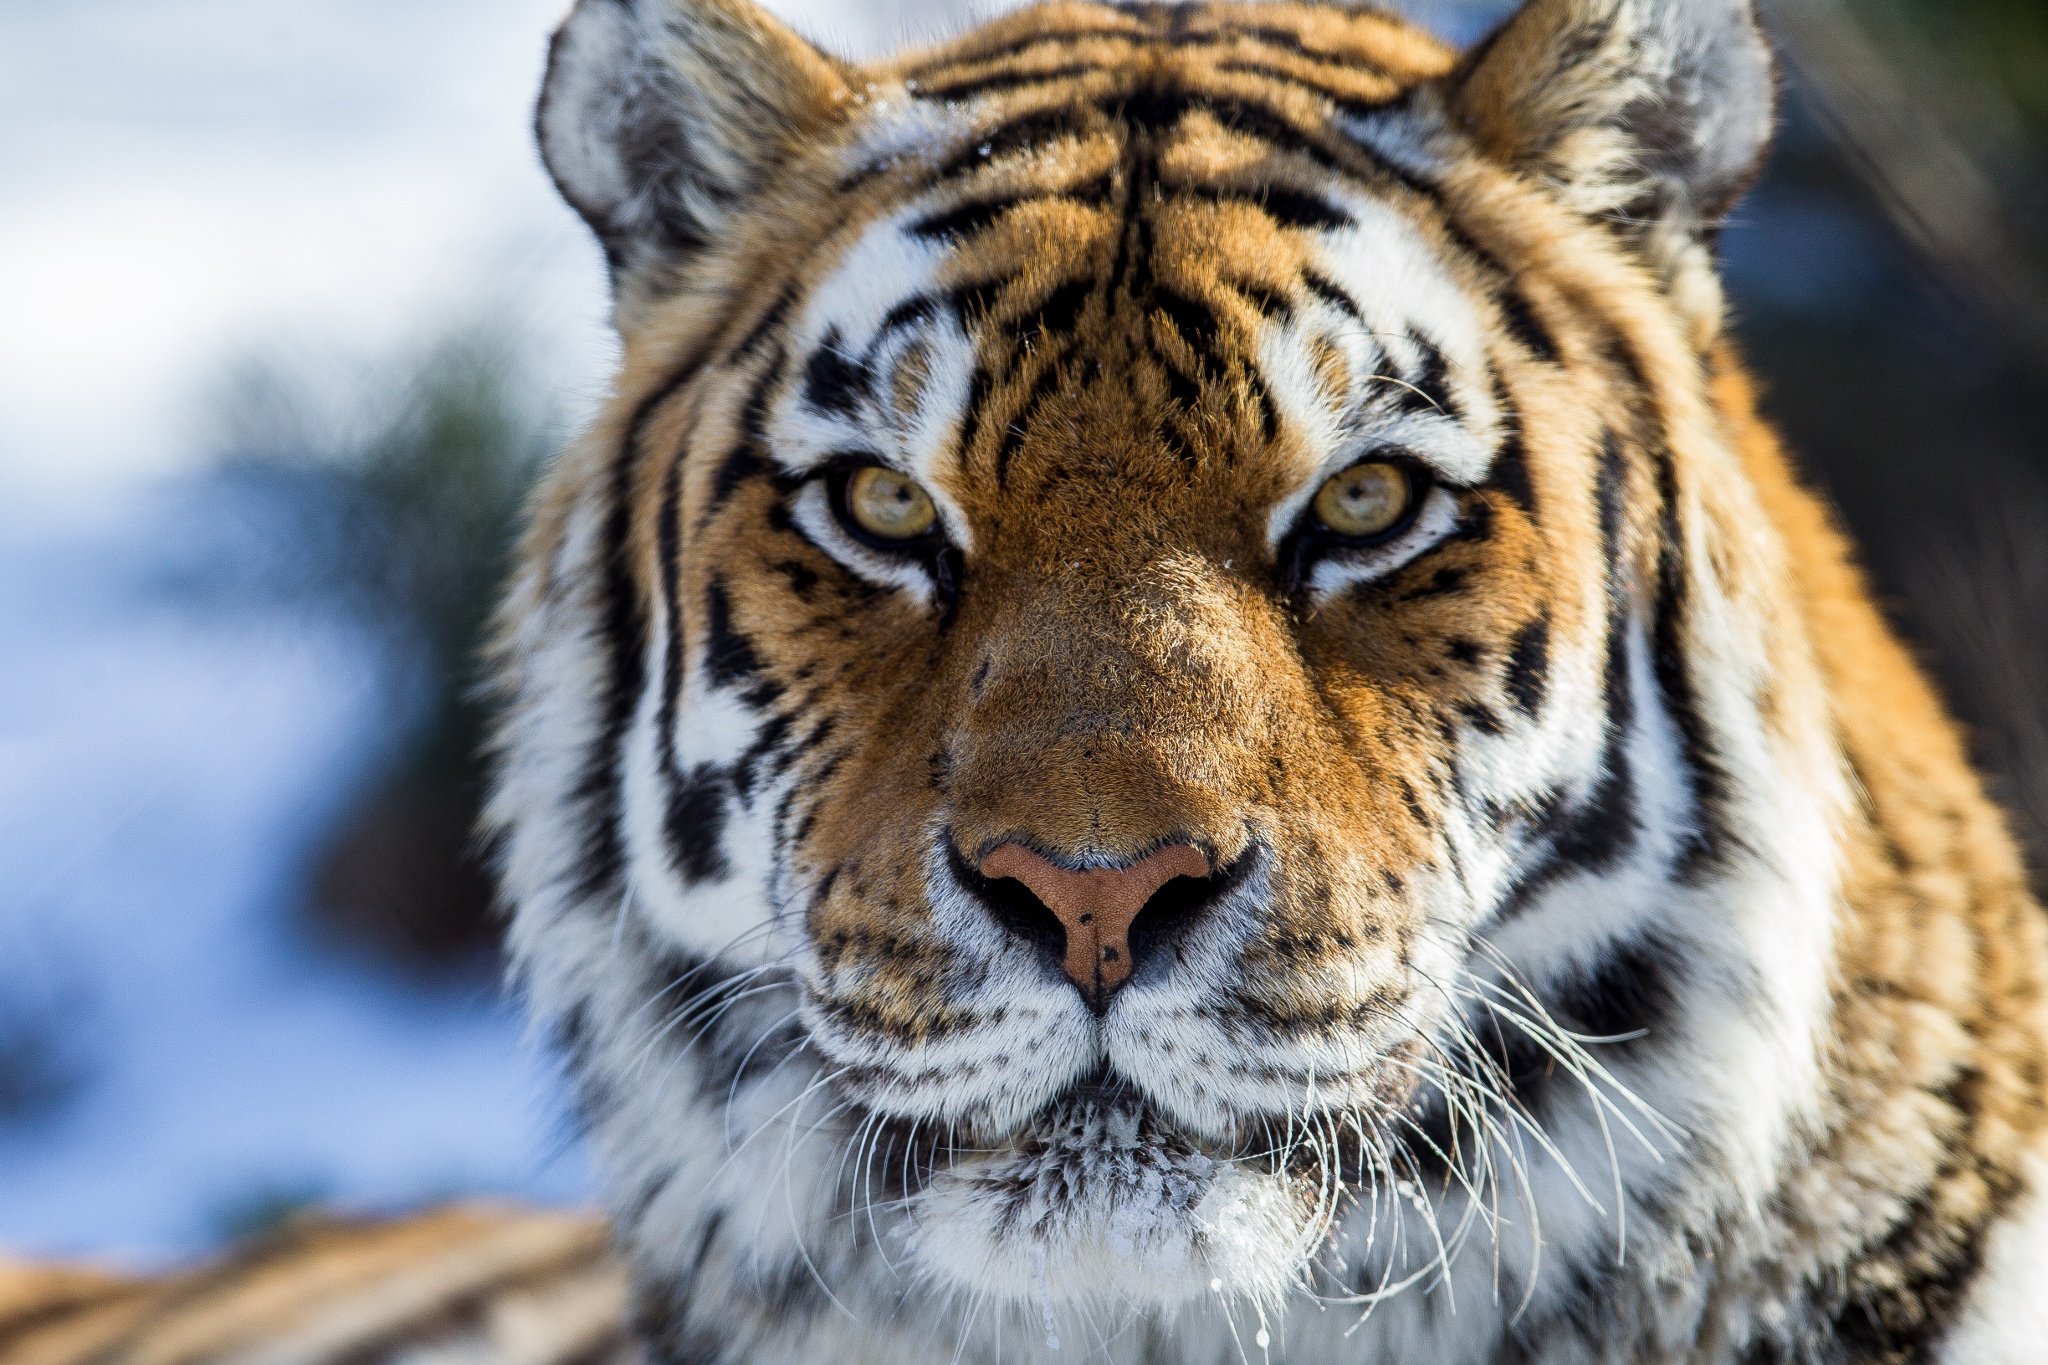tiger: (487, 40, 1978, 1275)
